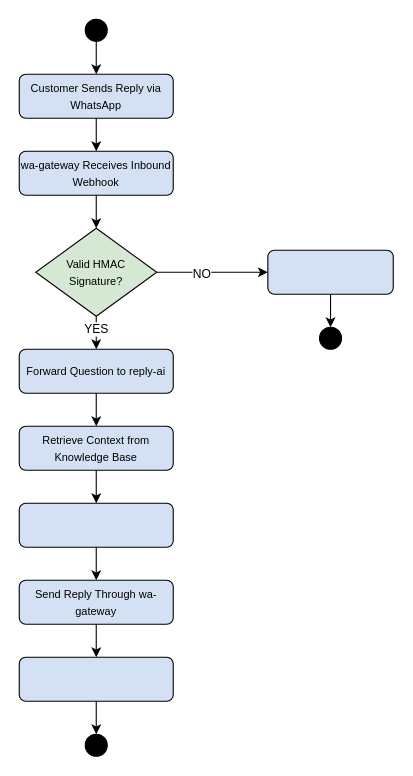
The diagram is 413 pixels wide and 776 high, and some of its shapes have lost their labels. Here are the shapes that lost their labels. From the top down, the box of each, then its label:
(267, 249, 393, 294): Reject Request
(18, 502, 173, 547): Generate Grounded Answer with LLM
(18, 656, 173, 701): Customer Receives Reply on WhatsApp
